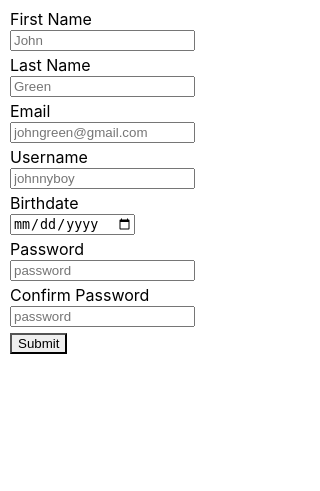
Scenario: RegisterForm › should display error when username is invalid
Type "&&!!" into the field labelled "Username".
click(102, 178); type("&&!!")  # box [10,168,195,189]
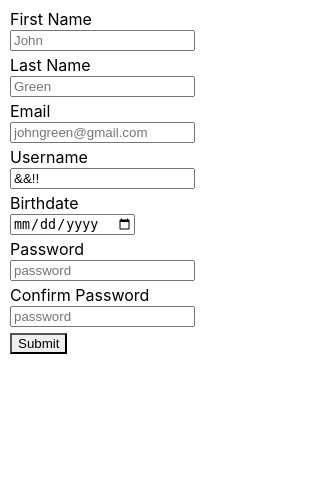
Submit the form from the button, box [10,333,68,354]
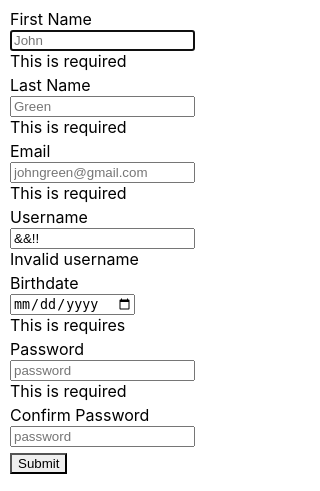
Expected: the message "Invalid username" is shown, [10,249,139,269]
